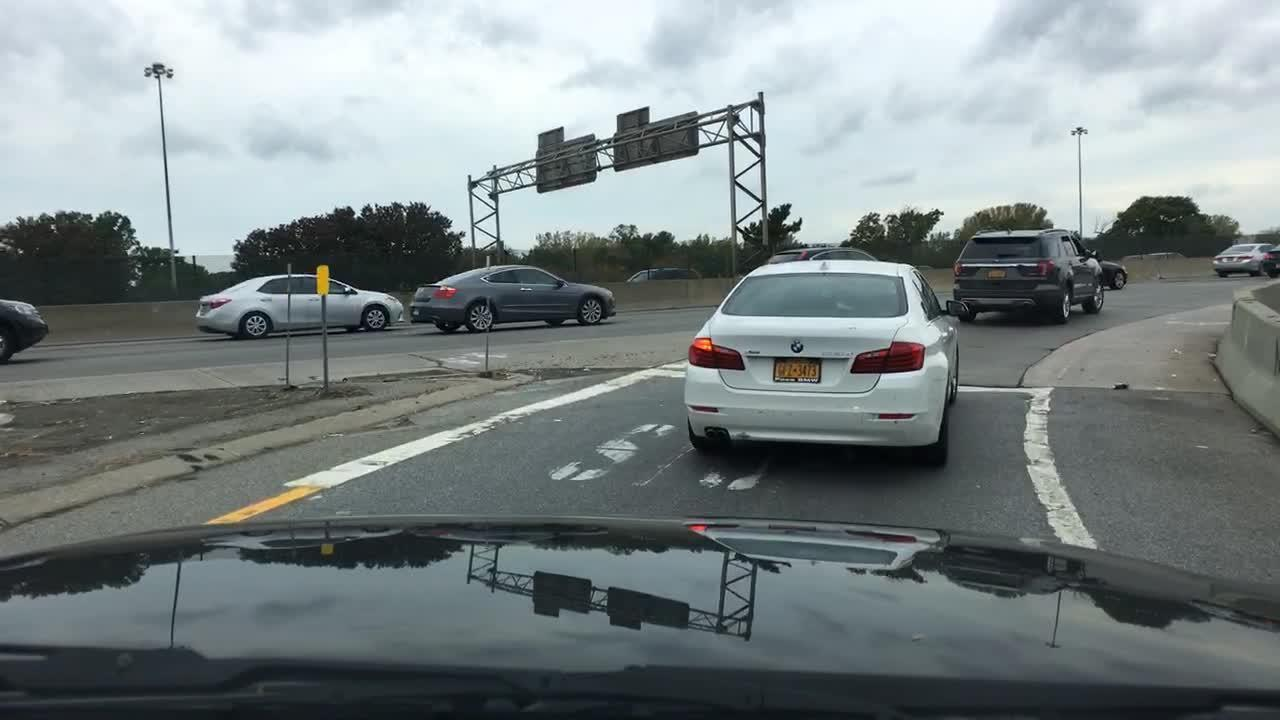bmw: (781, 335, 814, 361)
